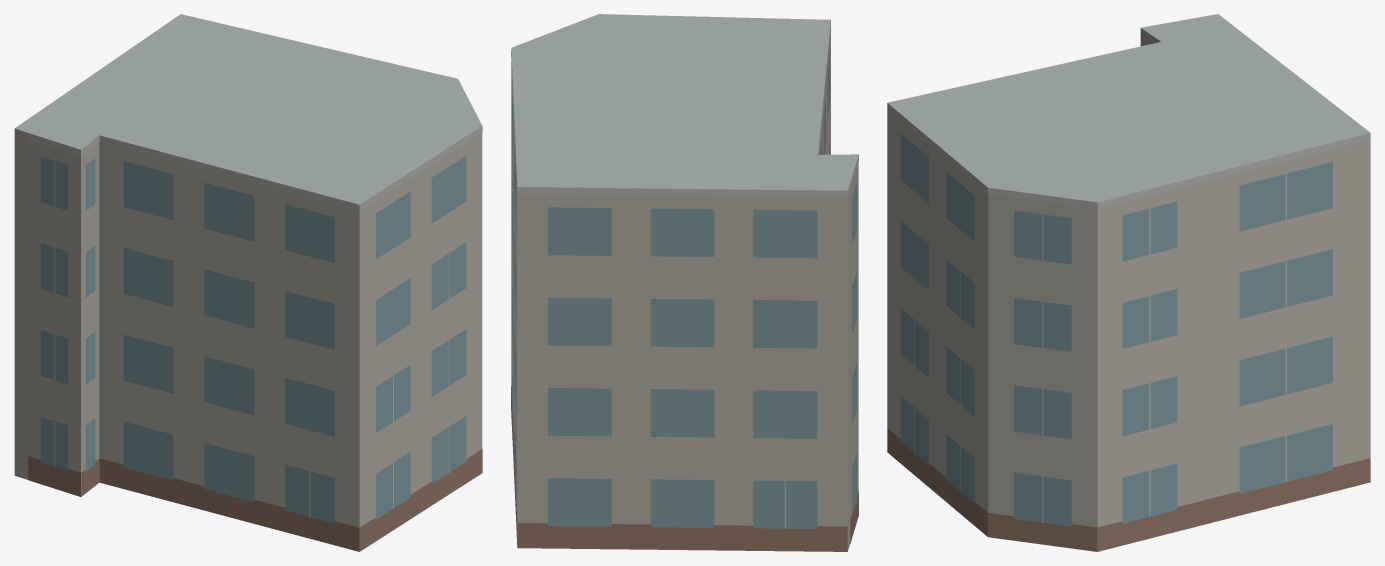
The model's file is survey-upis-32859719.glb.
3 views of the same model, side by side, from view 1: azimuth 30°, elevation 25°; view 2: azimuth 150°, elevation 25°; view 3: azimuth 270°, elevation 25° (orthographic). The views are drawn at different scales.
Visible parts, largest first — view 1: survey-upis-32859719.tmp; view 2: survey-upis-32859719.tmp; view 3: survey-upis-32859719.tmp.
Boxes of the visible parts, x1,y1,x2,y2 form: survey-upis-32859719.tmp: [14, 14, 482, 551]; survey-upis-32859719.tmp: [511, 14, 858, 551]; survey-upis-32859719.tmp: [887, 14, 1370, 551].
Bounding box in the file's own units: 14.69 × 12.7 × 15.93.
